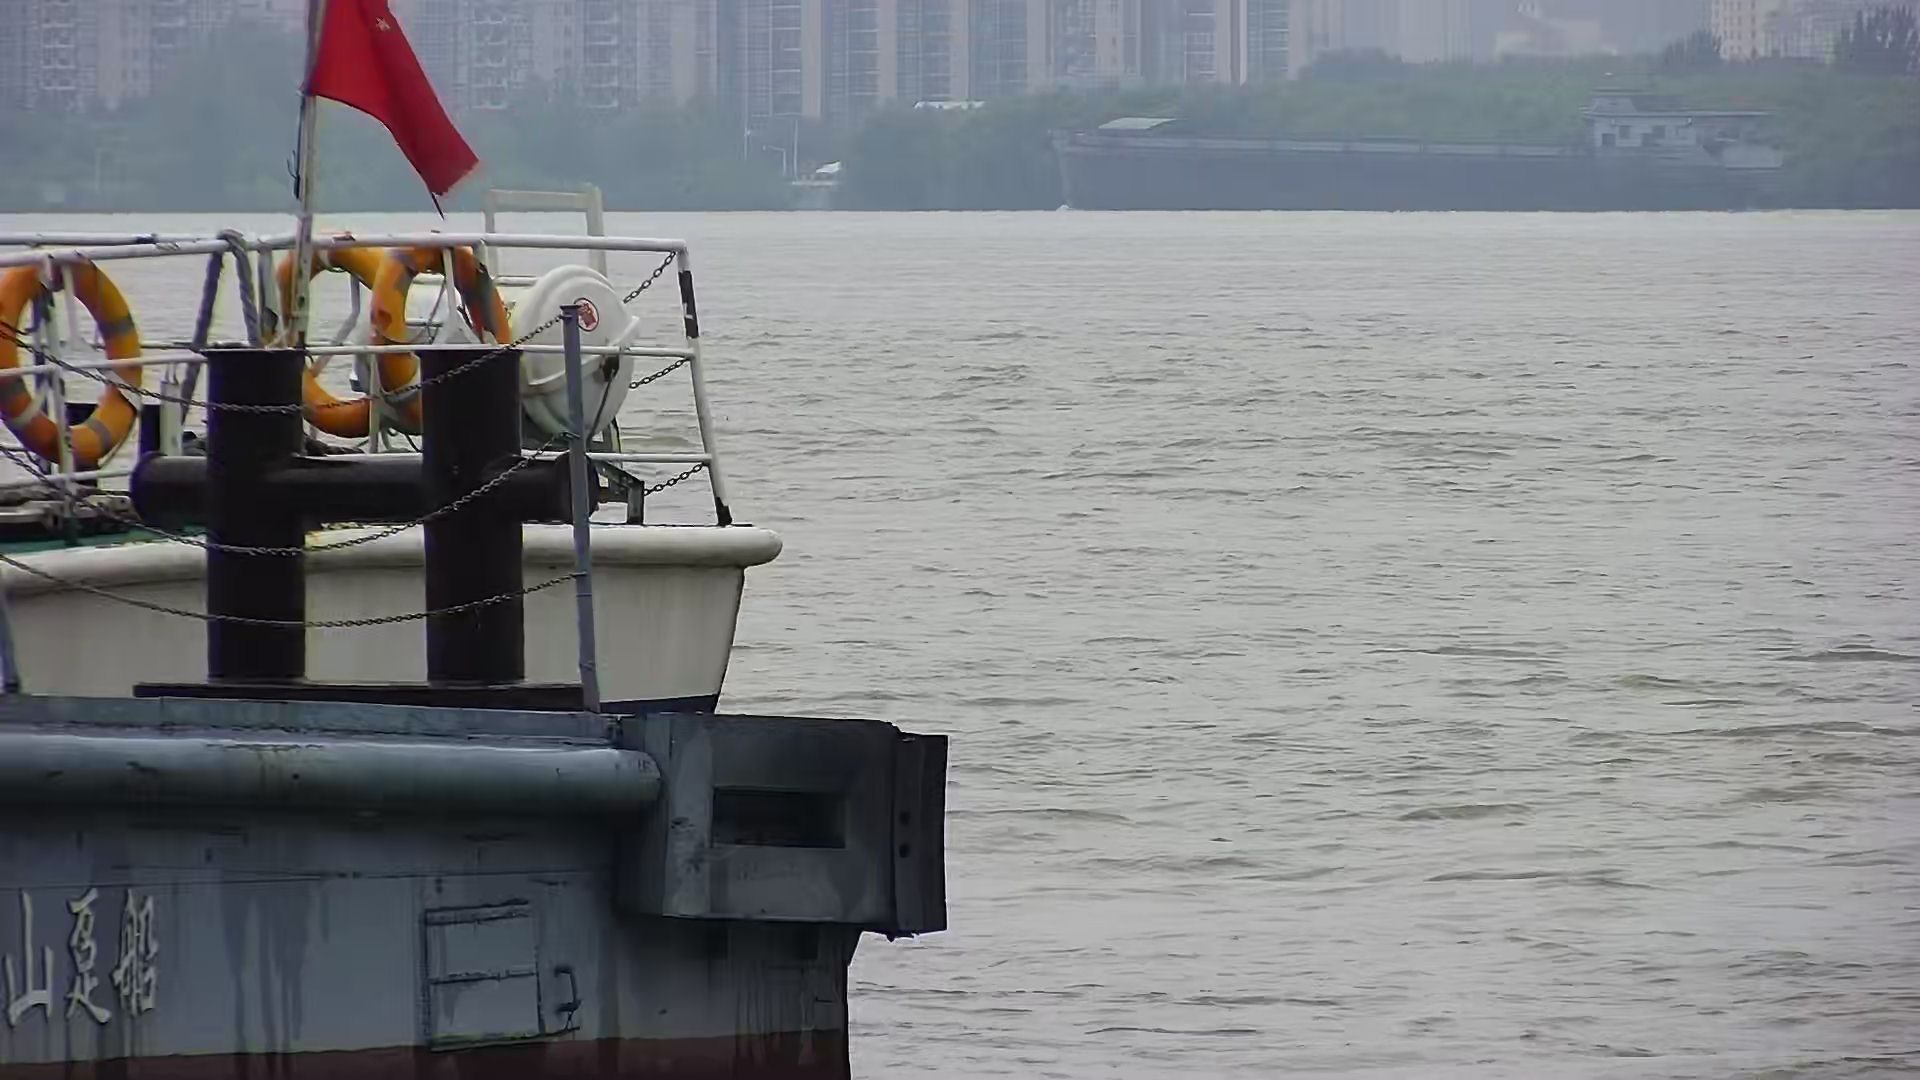ship: (3, 3, 949, 1080), (1040, 83, 1789, 214)
